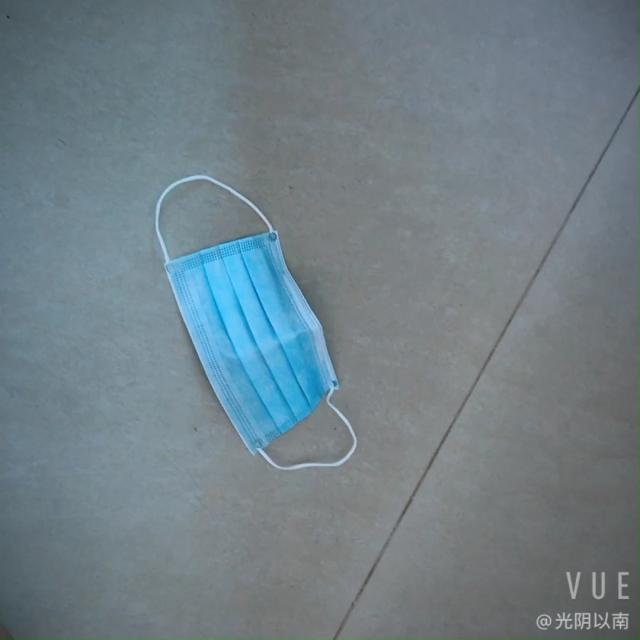non-organic waste: (155, 225, 331, 463)
